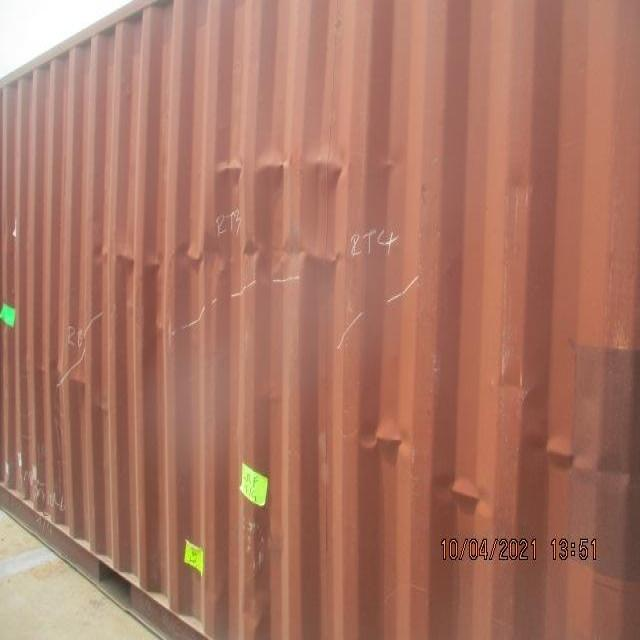dent: (88, 227, 355, 287), (353, 413, 501, 520), (213, 140, 359, 196), (544, 424, 611, 482)
